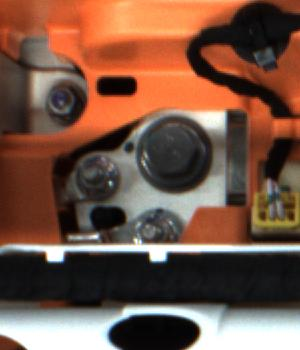nut_b: (133, 111, 221, 198)
